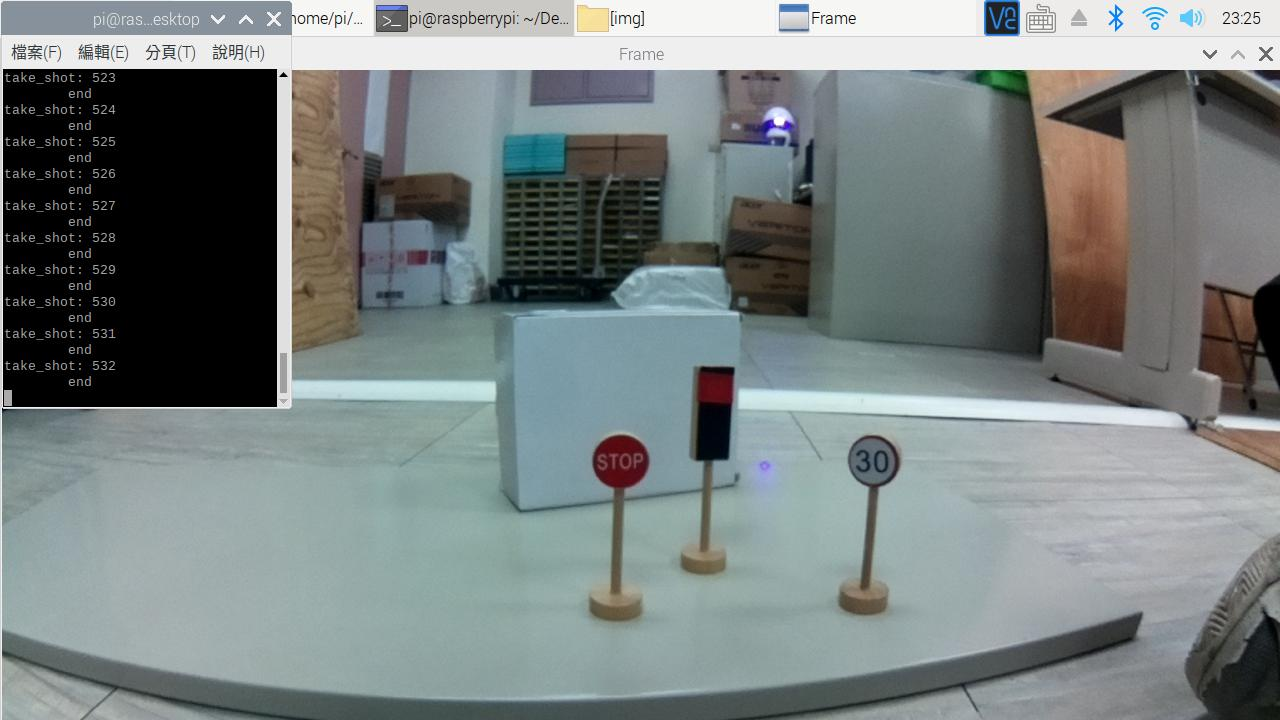Red: (685, 353, 742, 477)
Speed30: (846, 431, 909, 488)
Stop: (579, 430, 666, 503)
